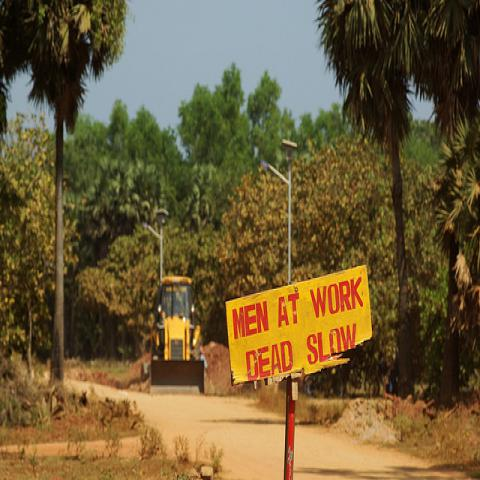truck: (149, 276, 205, 395)
